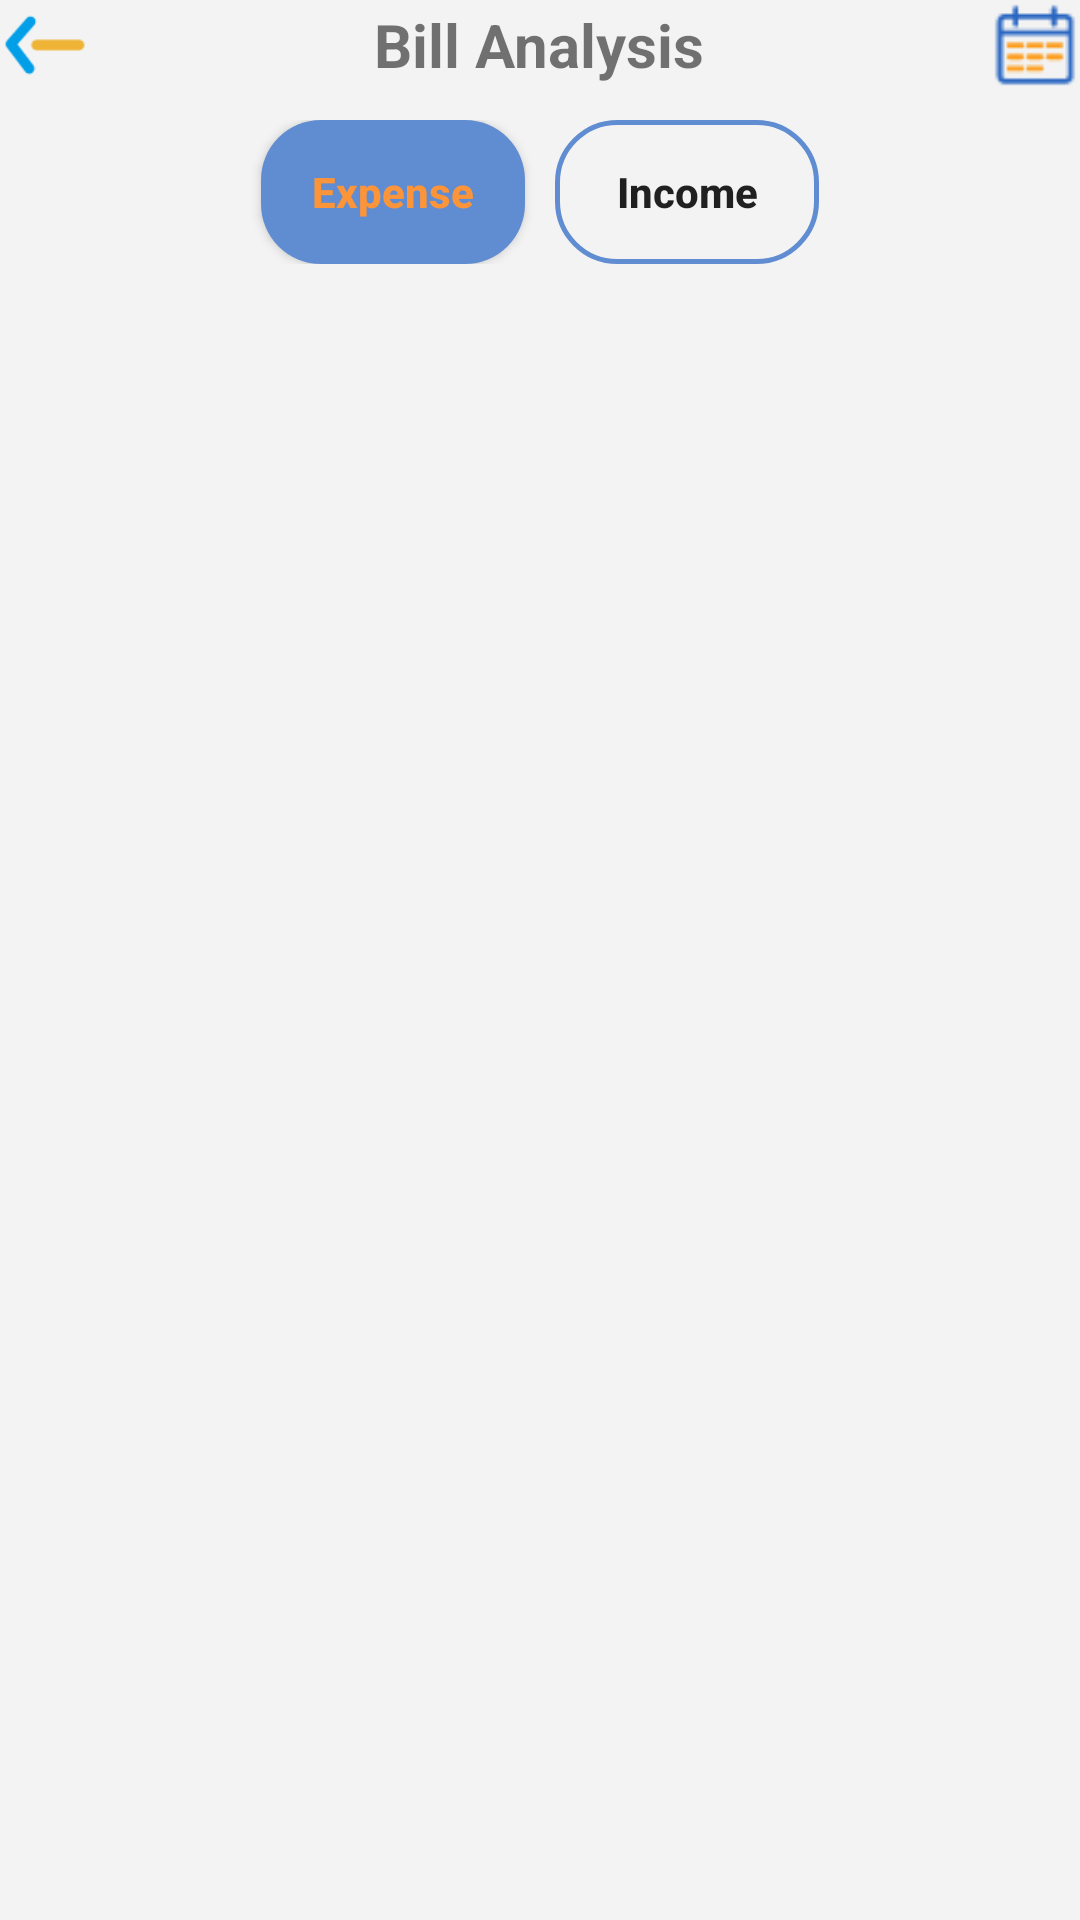

Locate icon controls on the screen. Image size 1080px×1920px, boxes as (x1, y1, x2, y2).
calendar: (995, 5, 1075, 85)
